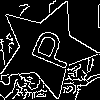P: (21, 23, 78, 72)
